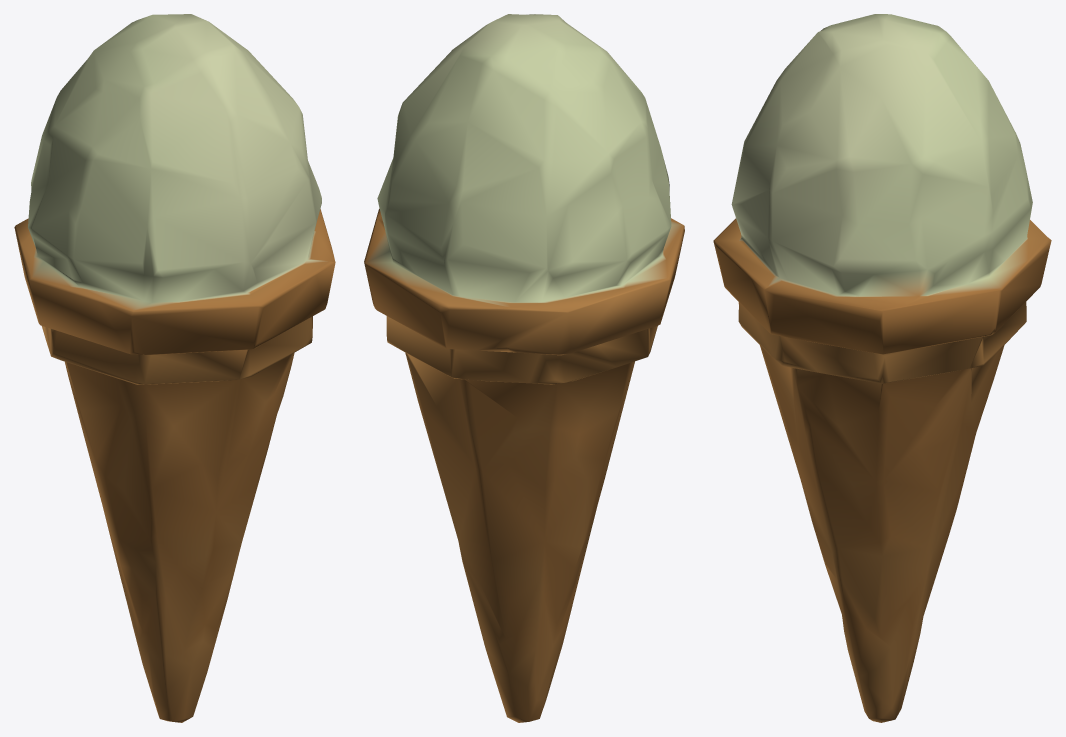
File: gen3d-ice-cream-cone-lod1.glb
3 views of the same model, side by side, from view 1: azimuth 30°, elevation 25°; view 2: azimuth 150°, elevation 25°; view 3: azimuth 270°, elevation 25° (orthographic).
Parts seen in each view (by area): view 1: part_0; view 2: part_0; view 3: part_0.
Part boxes in pixels (x1,y1,x2,y2): part_0: (14,14,335,722); part_0: (364,14,684,722); part_0: (713,14,1051,722).
Bounding box in the file's own units: 0.4387 × 0.9983 × 0.4383.
